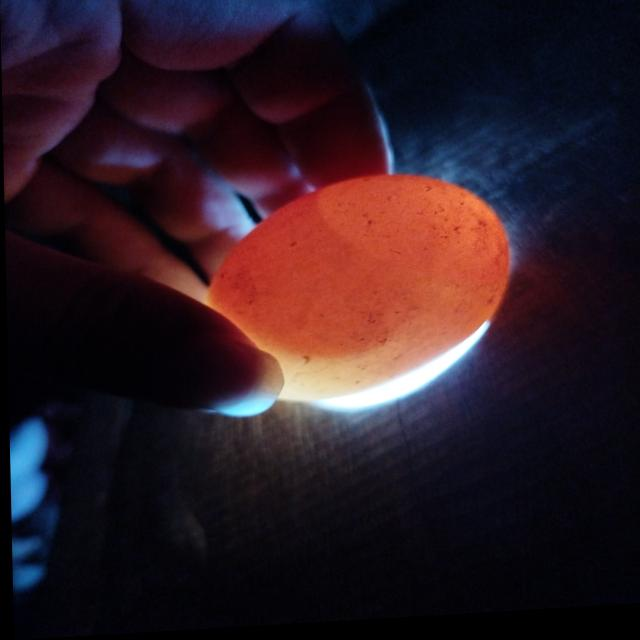Camara de Ar: (318, 179, 508, 286)
